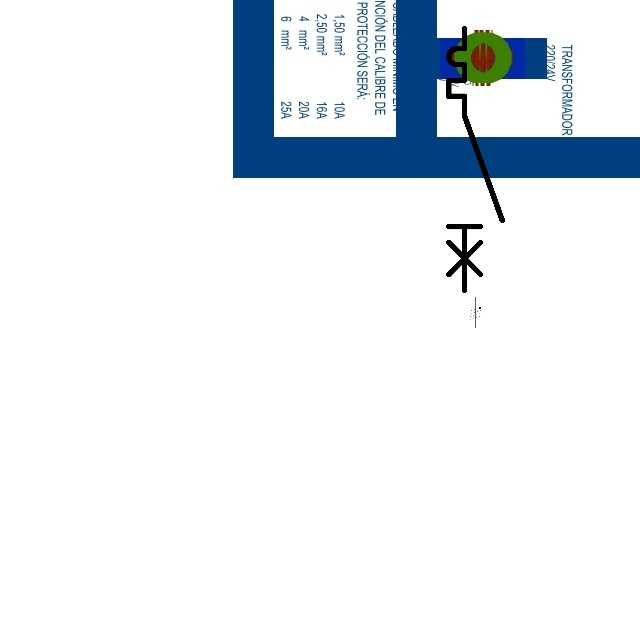interruptor_termomagnetico: (442, 22, 509, 296)
